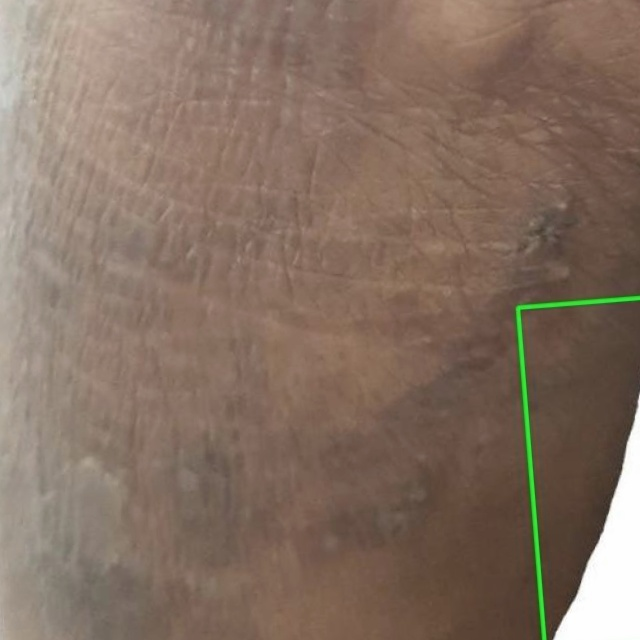Contact Dermatitis: (517, 297, 639, 639)
